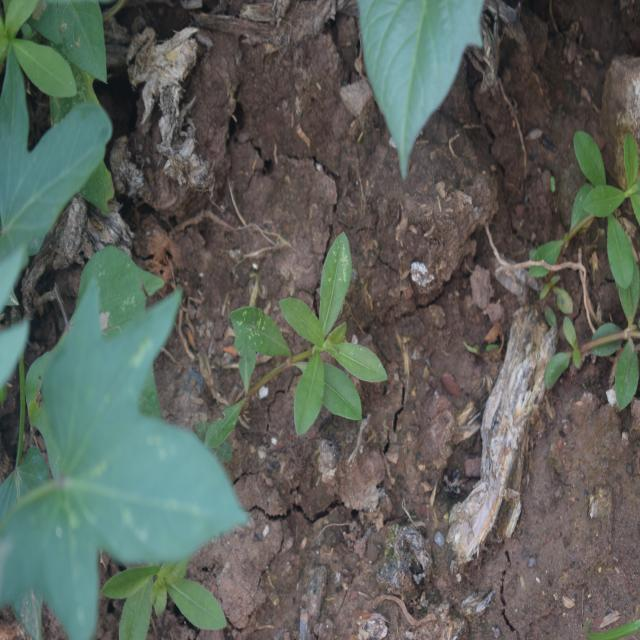Alligatorweed: (230, 232, 400, 486)
